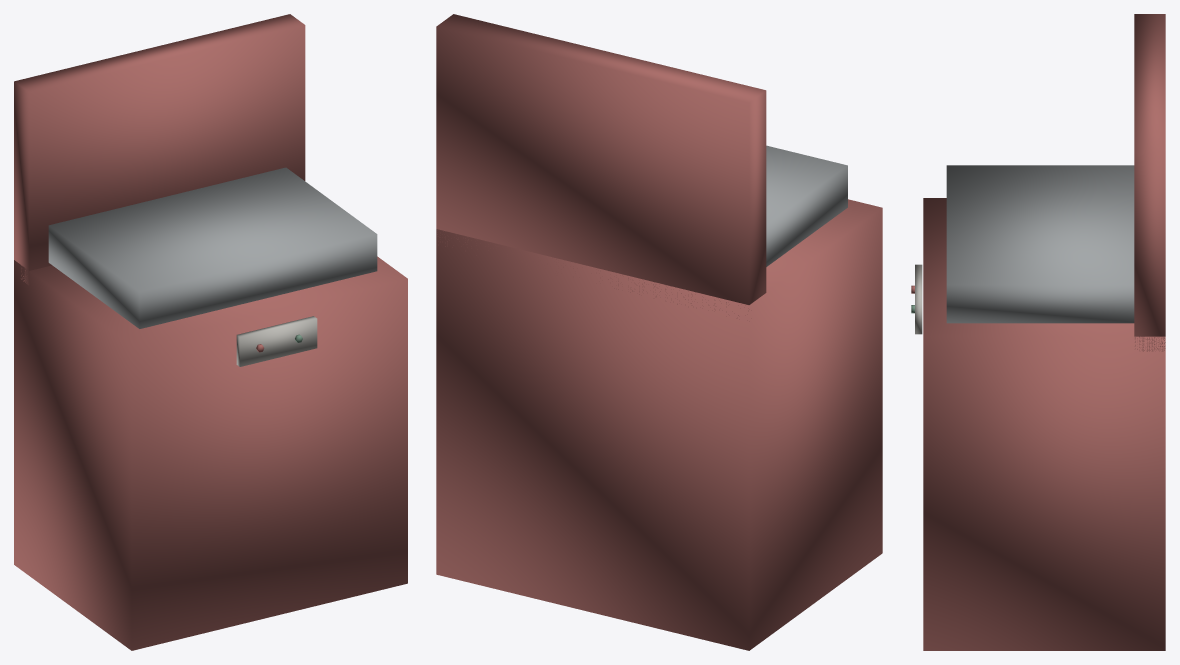
The model's file is parts_washer__compact.glb.
3 renders of one model, left to right at view 1: azimuth 30°, elevation 25°; view 2: azimuth 150°, elevation 25°; view 3: azimuth 270°, elevation 25°, orthographic. The views are drawn at different scales.
Visible parts, largest first — view 1: world; view 2: world; view 3: world.
Boxes of the visible parts, x1,y1,x2,y2 form: world: (14,14,407,650); world: (436,14,882,650); world: (911,14,1165,650).
Size of the model in its own units: 0.7224 by 1.21 by 0.5599.
